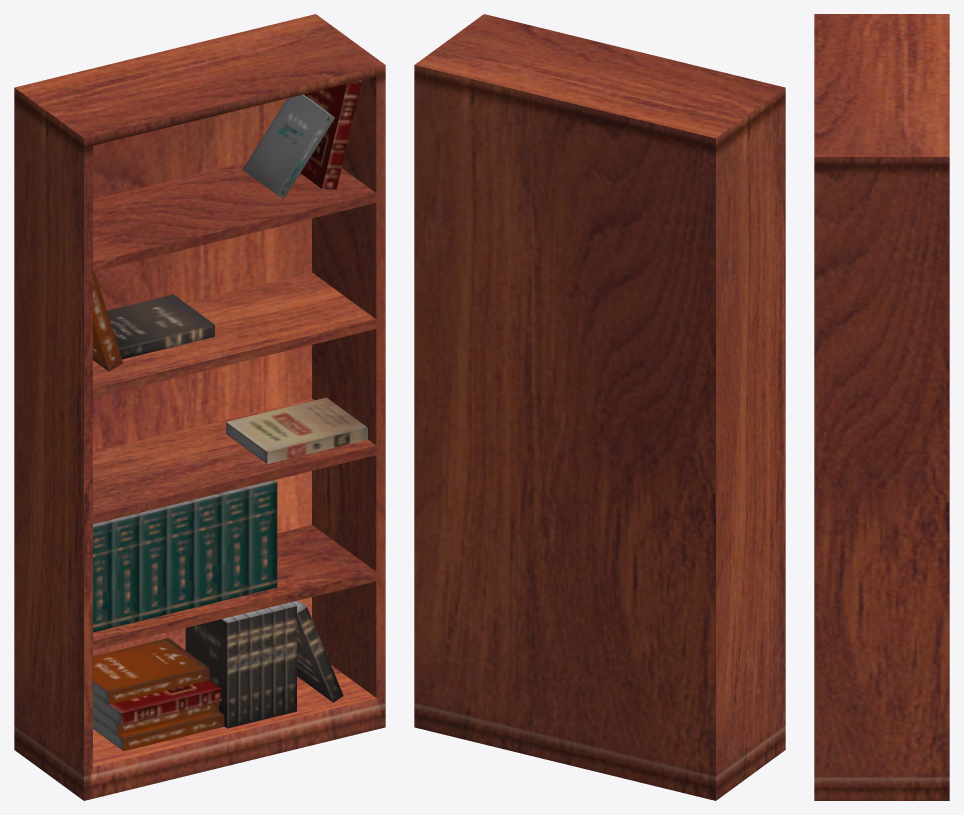
File: lrgwoodbookshelf2.fbx
3 renders of one model, left to right at view 1: azimuth 30°, elevation 25°; view 2: azimuth 150°, elevation 25°; view 3: azimuth 270°, elevation 25°, orthographic. The views are drawn at different scales.
Visible parts, largest first — view 1: mesh_0; view 2: mesh_0; view 3: mesh_0.
Part boxes in pixels (x1=…): mesh_0: x1=14, y1=14, x2=385, y2=800; mesh_0: x1=414, y1=14, x2=785, y2=800; mesh_0: x1=814, y1=14, x2=949, y2=800.
Bounding box in the file's own units: 100 × 210 × 40.
Materials: 1 (1 with a texture image).
